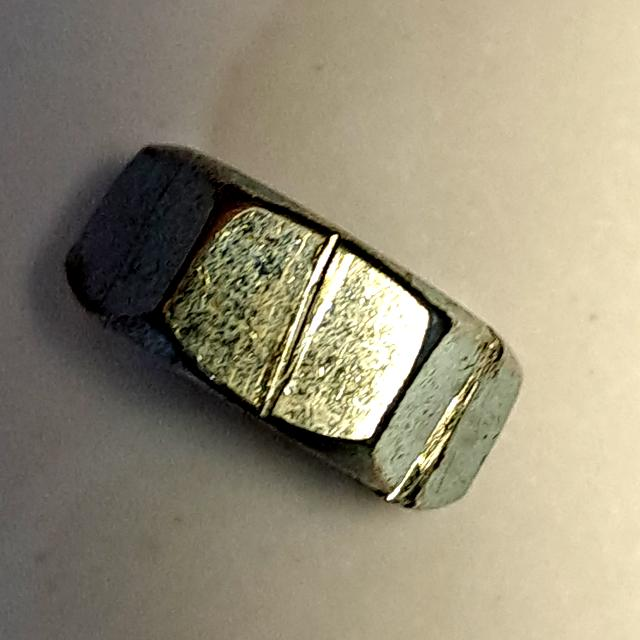Side_Scratches: (55, 132, 538, 525)
